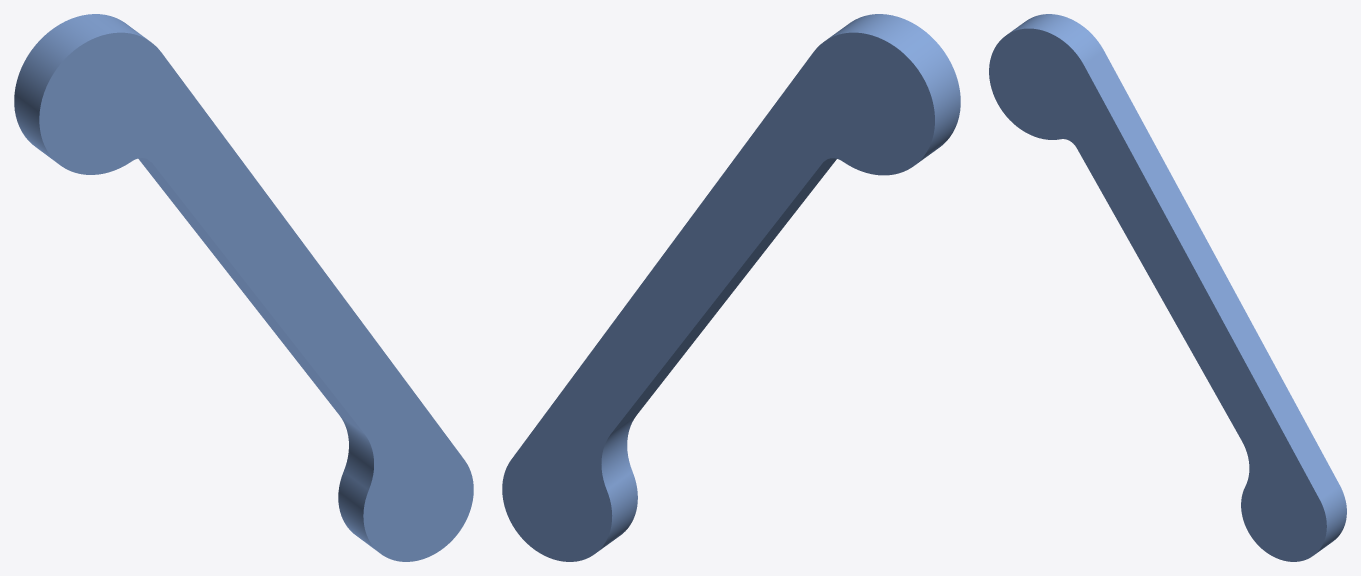
Rendered from _M5h2pOkgVaejo_GDh.gltf.
3 views of the same model, side by side, from view 1: azimuth 30°, elevation 25°; view 2: azimuth 150°, elevation 25°; view 3: azimuth 330°, elevation 25° (orthographic). The views are drawn at different scales.
Parts seen in each view (by area): view 1: Femur; view 2: Femur; view 3: Femur.
Boxes of the visible parts, box(x1,y1,x2,y2) form: Femur: box(14, 14, 473, 561); Femur: box(502, 14, 960, 561); Femur: box(989, 14, 1346, 561).
Bounding box in the file's own units: 0.0788 × 0.1044 × 0.00844.
